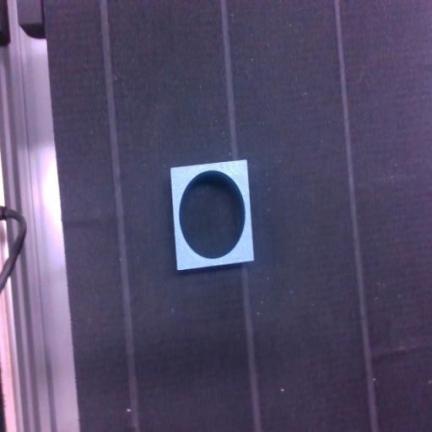square: (171, 161, 253, 269)
